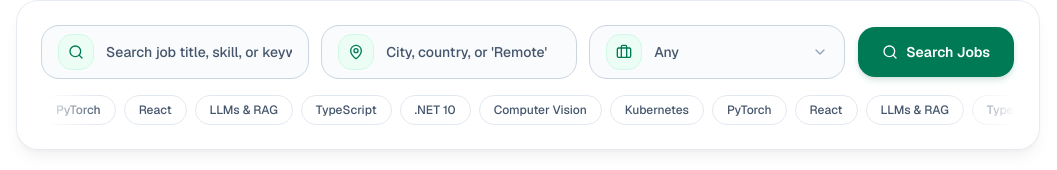
Test: JobSearchBar Component › allows typing a location, shows clear button, and clears location when clear button is clicked
Step 1. Type "San Francisco, CA" into the field named "Filter by location" → {"x": 473, "y": 52}, box [386,42,560,62]
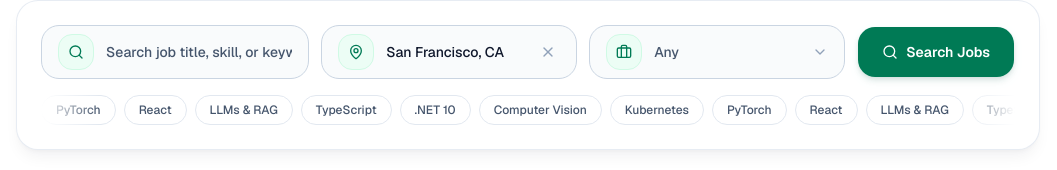
Expected: the button named "Clear location search" is shown
Step 2. Click the button named "Clear location search" → {"x": 548, "y": 52}, box [536,40,560,64]
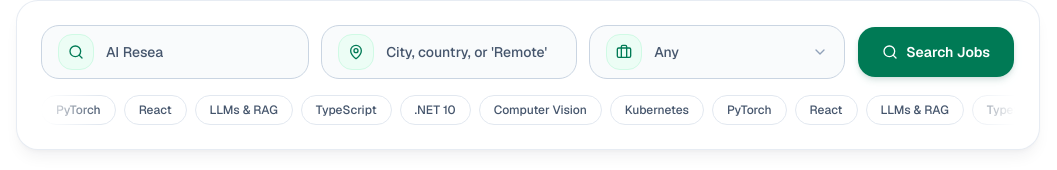
Expected: the field named "Filter by location" is empty, [386,42,560,62]
